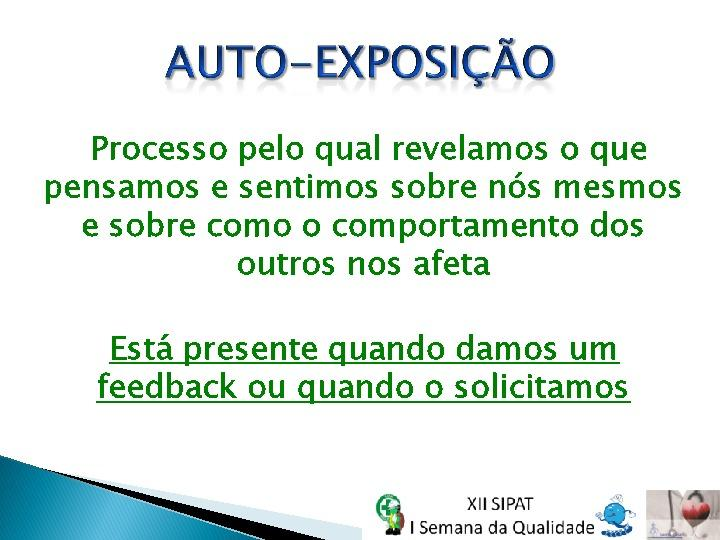subtitle: (94, 330, 661, 416), (408, 484, 598, 540)
title: (25, 14, 701, 310)
